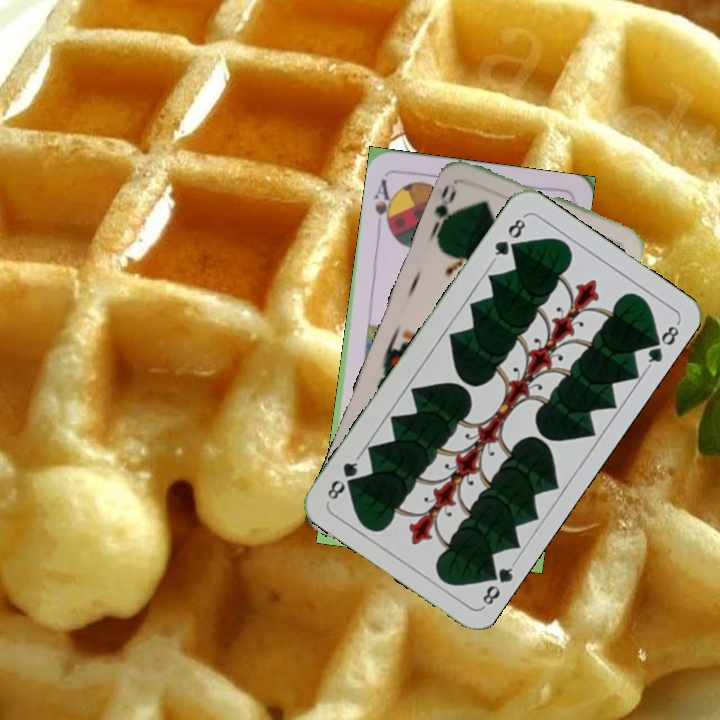G8: (478, 558, 519, 610), (489, 212, 529, 264)
GO: (426, 180, 460, 240)
SA: (370, 175, 398, 234)
